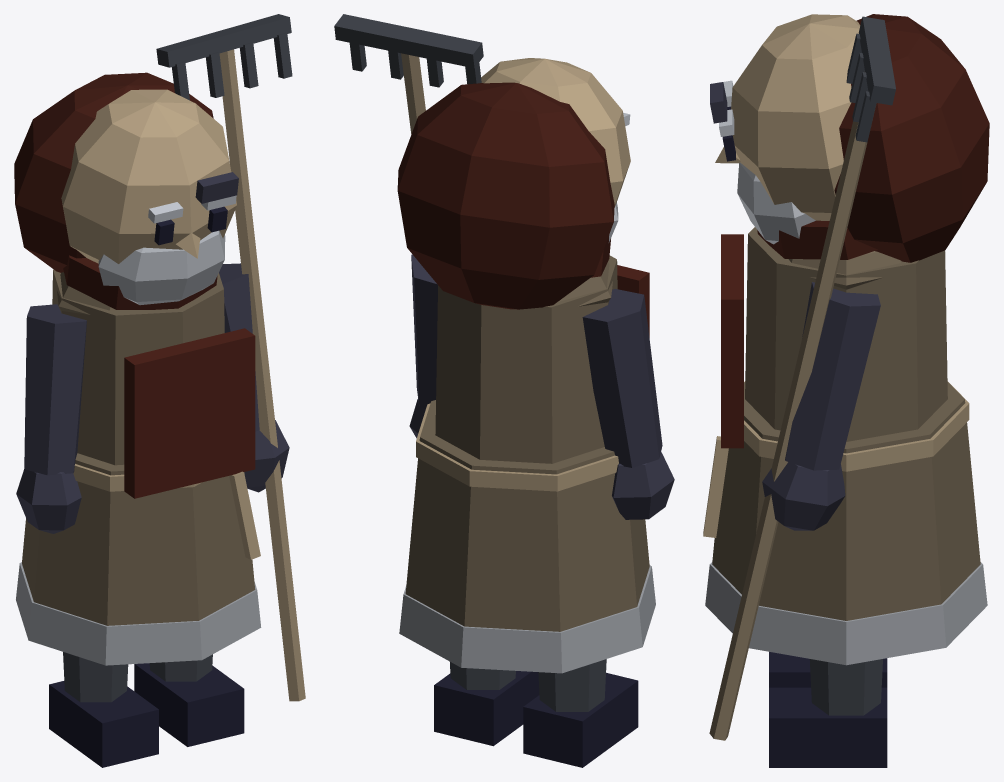
File: hob.glb
The picture shows the model from 3 angles, left to right: view 1: azimuth 30°, elevation 25°; view 2: azimuth 150°, elevation 25°; view 3: azimuth 270°, elevation 25°; orthographic projection. The views are drawn at different scales.
Visible parts, largest first — view 1: Torso, Head, ArmL, ArmR, LegR, LegL; view 2: Torso, Head, ArmR, ArmL, LegR, LegL; view 3: Torso, Head, ArmL, LegL, LegR.
Part boxes in pixels (x1=…): Torso: x1=16, y1=269, x2=261, y2=665; Head: x1=14, y1=72, x2=238, y2=309; ArmL: x1=156, y1=14, x2=305, y2=701; ArmR: x1=16, y1=304, x2=86, y2=533; LegR: x1=49, y1=652, x2=158, y2=767; LegL: x1=134, y1=654, x2=244, y2=746; Torso: x1=399, y1=255, x2=655, y2=673; Head: x1=397, y1=58, x2=630, y2=309; ArmR: x1=582, y1=289, x2=674, y2=519; ArmL: x1=334, y1=14, x2=483, y2=438; LegR: x1=523, y1=659, x2=638, y2=767; LegL: x1=434, y1=662, x2=539, y2=746; Torso: x1=703, y1=227, x2=987, y2=665; Head: x1=710, y1=14, x2=989, y2=262; ArmL: x1=709, y1=16, x2=895, y2=740; LegL: x1=769, y1=659, x2=887, y2=767; LegR: x1=769, y1=652, x2=887, y2=687.
Bounding box in the file's own units: 0.8103 × 1.77 × 0.6286.
